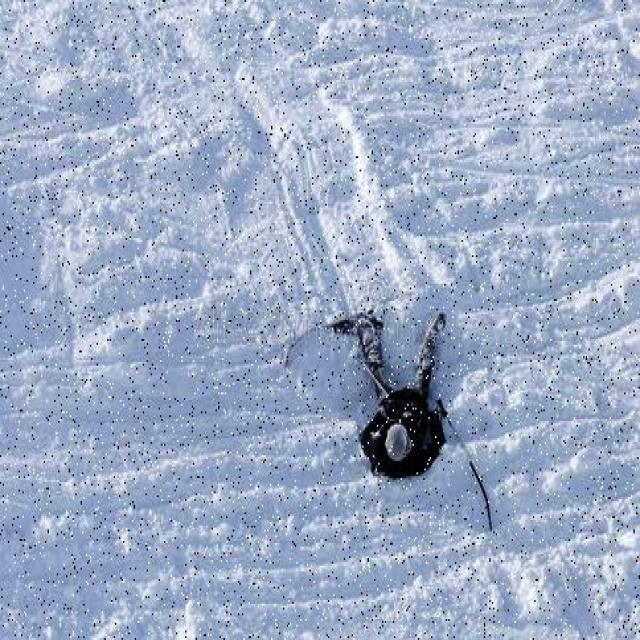fall: (356, 296, 452, 470)
